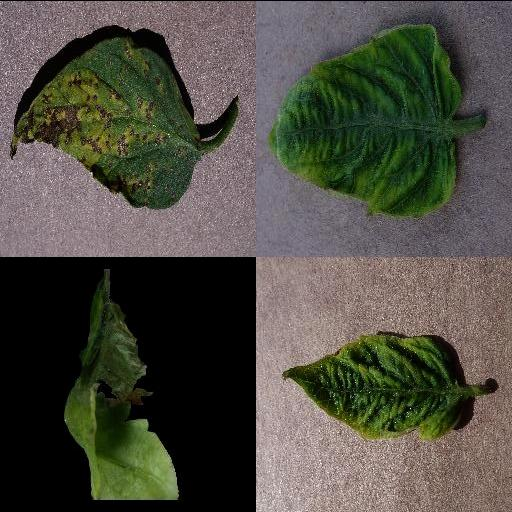Late Blight: (62, 268, 182, 498)
Septoria: (8, 38, 200, 210)
Yellow Leaf Curl Virus: (265, 20, 463, 216), (281, 333, 461, 442)
